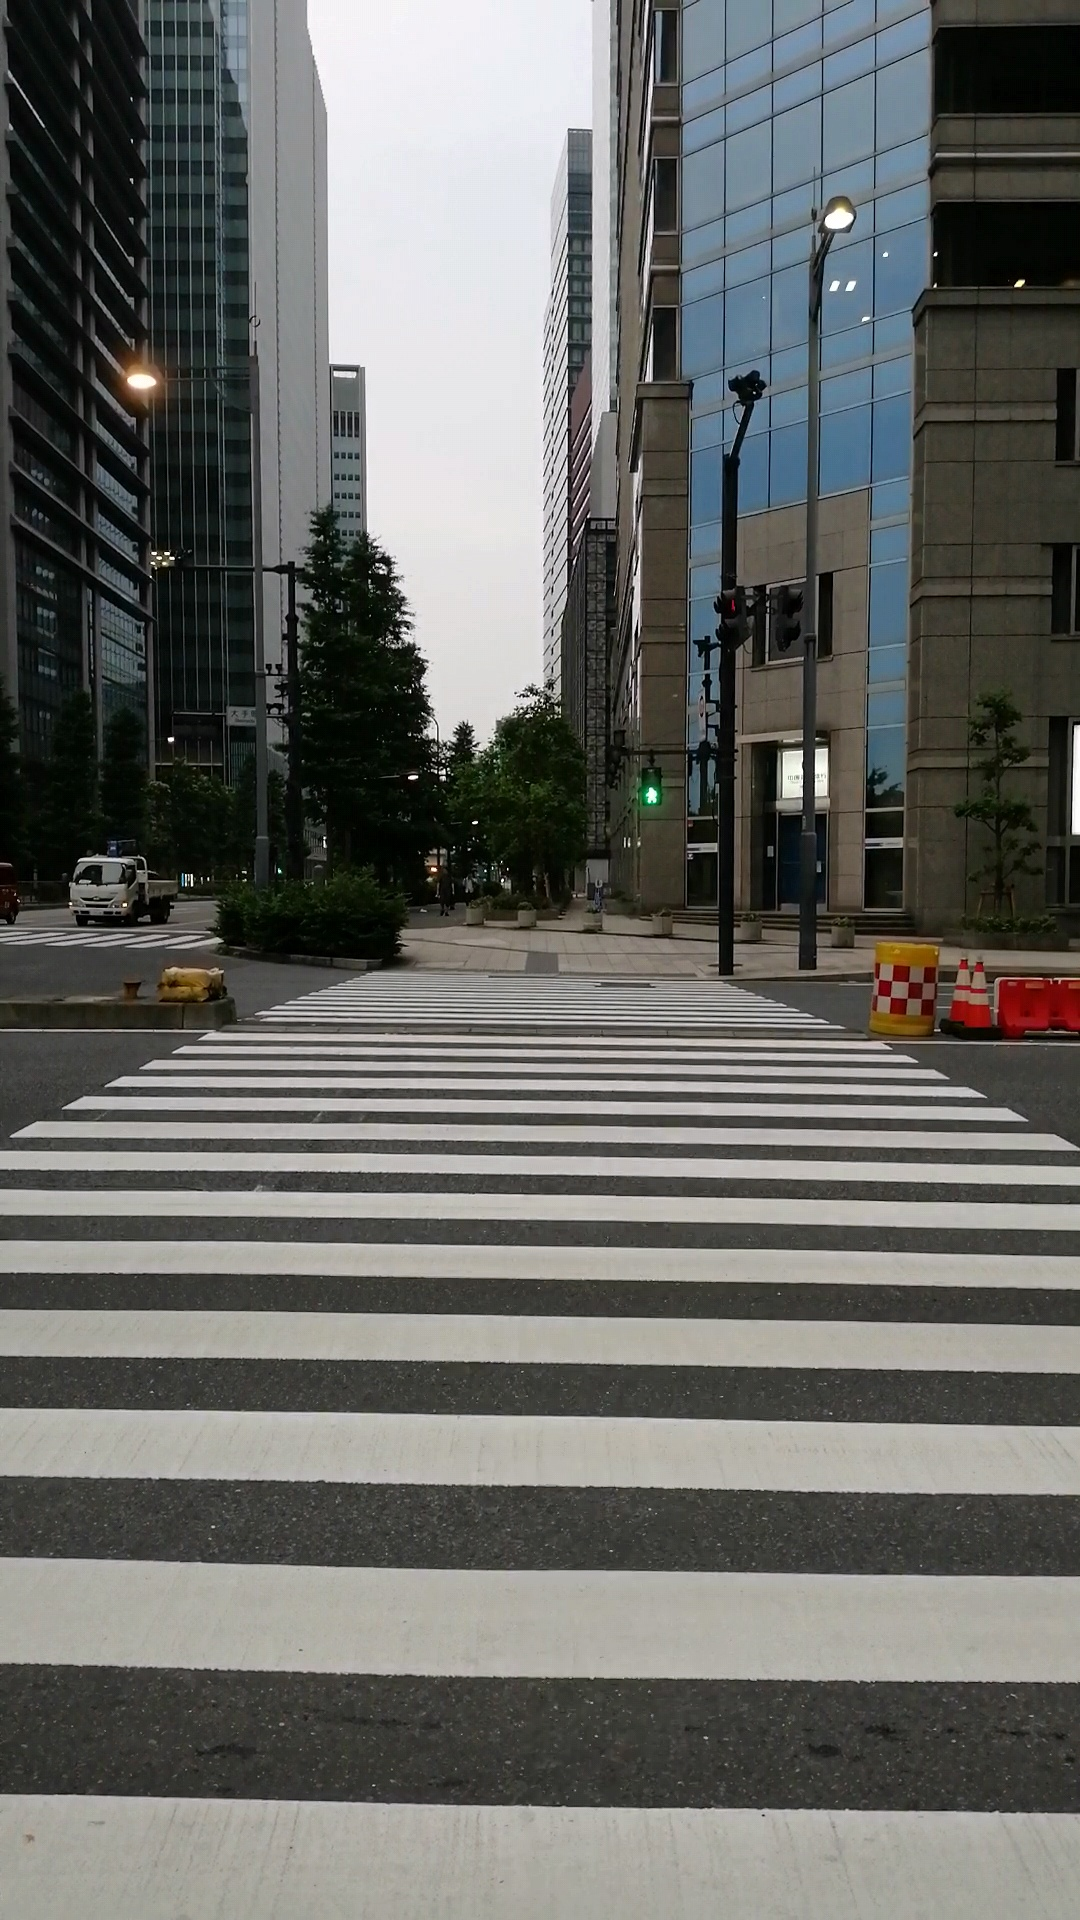green: (640, 767, 663, 807)
